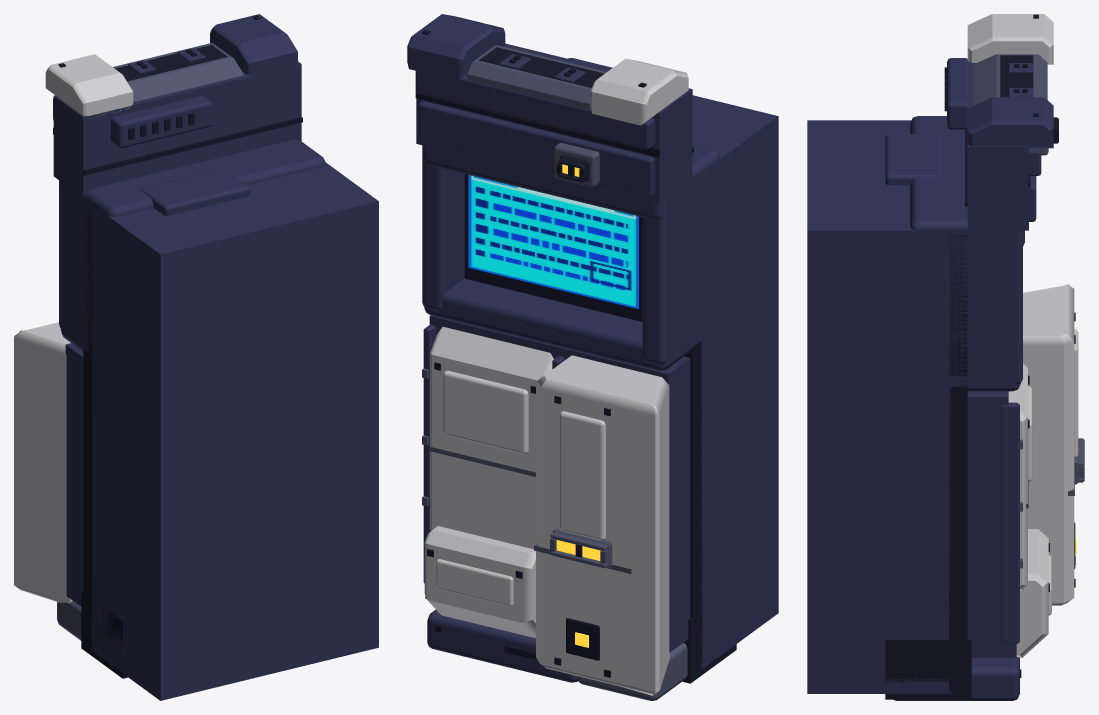
File: hull.bay.plate_large.window.navy.plate.w1.275.s0.k-1.25.t-0.95_0.42_1.3_1.85.glb
3 views of the same model, side by side, from view 1: azimuth 30°, elevation 25°; view 2: azimuth 150°, elevation 25°; view 3: azimuth 270°, elevation 25° (orthographic). The views are drawn at different scales.
Parts seen in each view (by area): view 1: hull.bay.plate_large.window.navy.plate.w1.275.s0.k-1.25.t-0.; view 2: hull.bay.plate_large.window.navy.plate.w1.275.s0.k-1.25.t-0.; view 3: hull.bay.plate_large.window.navy.plate.w1.275.s0.k-1.25.t-0..
Boxes of the visible parts, x1,y1,x2,y2 form: hull.bay.plate_large.window.navy.plate.w1.275.s0.k-1.25.t-0.: [14, 14, 378, 700]; hull.bay.plate_large.window.navy.plate.w1.275.s0.k-1.25.t-0.: [407, 14, 778, 700]; hull.bay.plate_large.window.navy.plate.w1.275.s0.k-1.25.t-0.: [807, 14, 1084, 700].
Size of the model in its own units: 1.39 by 3.14 by 1.35.
Materials: 7 (1 with a texture image).
